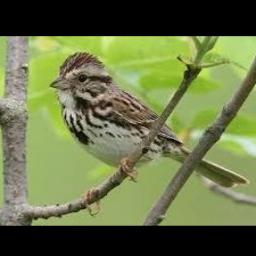Sparrow: (49, 53, 248, 215)
